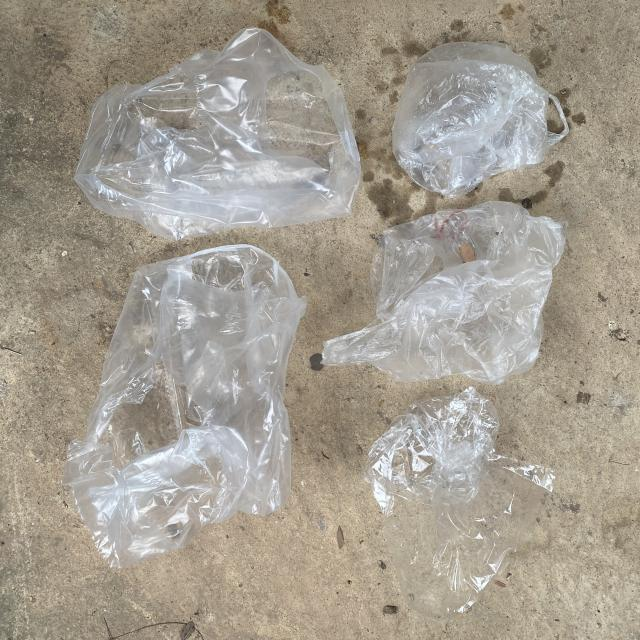Single-layer Plastic: (62, 245, 306, 569), (75, 28, 361, 240), (322, 201, 566, 384), (365, 388, 554, 622), (392, 41, 569, 198)
